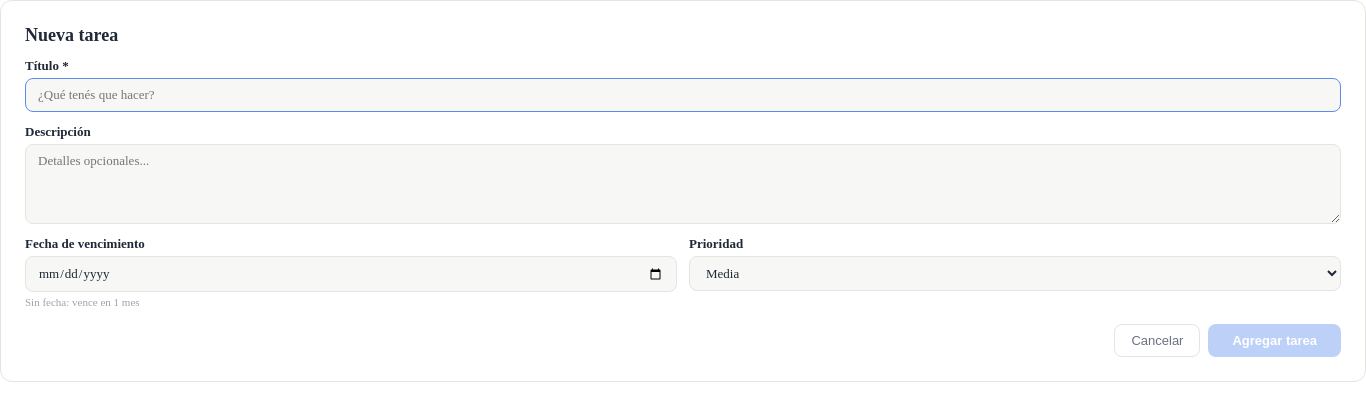
it: TaskForm › el botón submit se habilita al escribir un título
In the field labelled "Título *": (683, 95) [25, 78, 1341, 112], type "Nueva tarea"
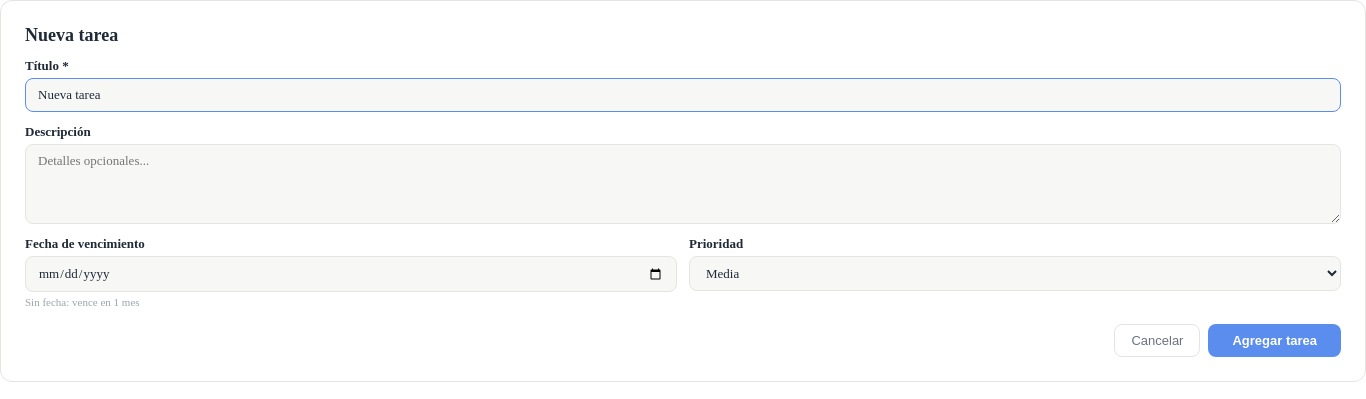
Result: the button "Agregar tarea" is enabled at [1208, 324, 1341, 357]
